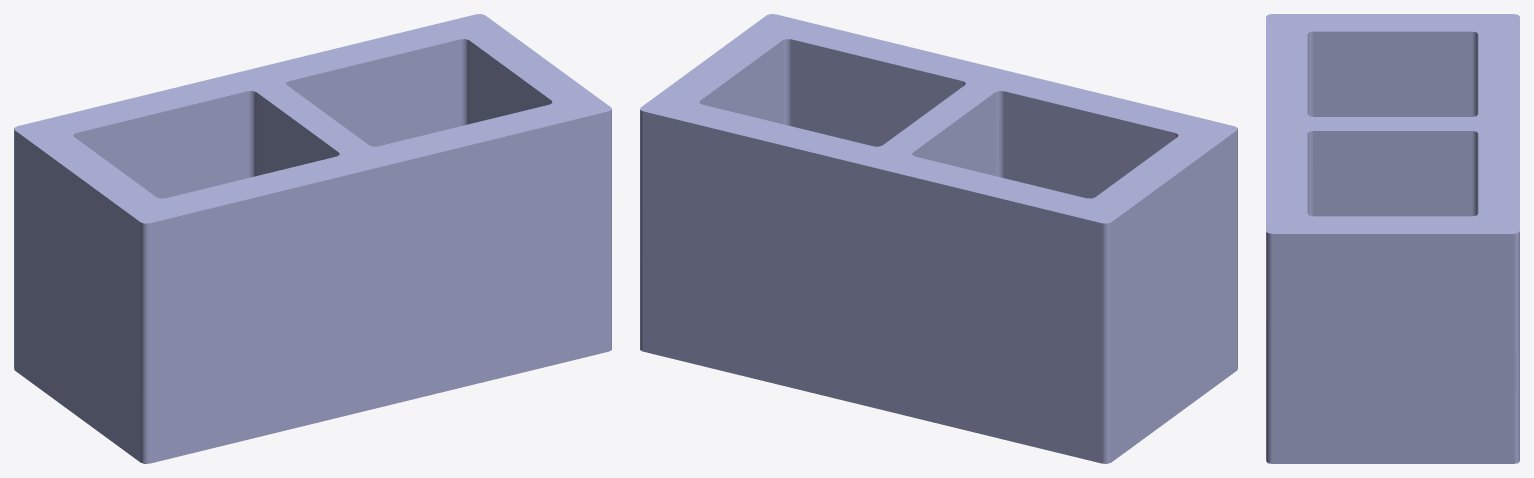
The model's file is cmu-mapped2.fbx.
The picture shows the model from 3 angles, left to right: view 1: azimuth 30°, elevation 25°; view 2: azimuth 150°, elevation 25°; view 3: azimuth 270°, elevation 25°; orthographic projection. The views are drawn at different scales.
Parts seen in each view (by area): view 1: Cinderblock; view 2: Cinderblock; view 3: Cinderblock.
Part boxes in pixels (x1,y1,x2,y2): Cinderblock: (14, 14, 611, 463); Cinderblock: (640, 14, 1237, 463); Cinderblock: (1266, 14, 1519, 463).
Size of the model in its own units: 39.69 by 19.37 by 19.37.
